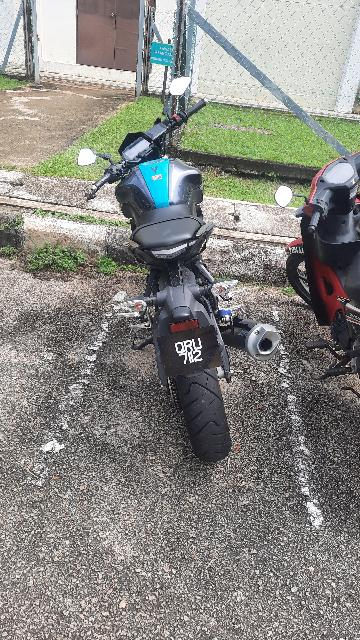License_Plate: (152, 324, 224, 380)
motorcycle: (71, 57, 287, 465)
